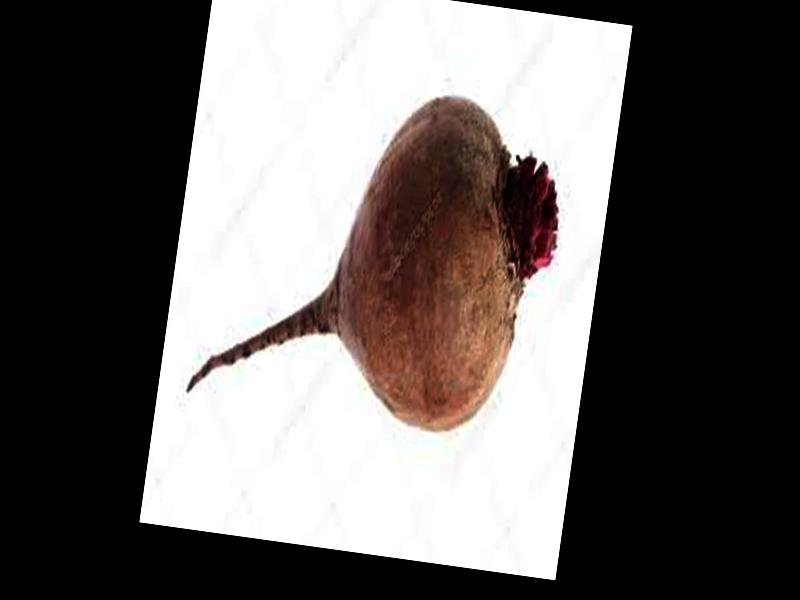Beet: (185, 59, 573, 444)
